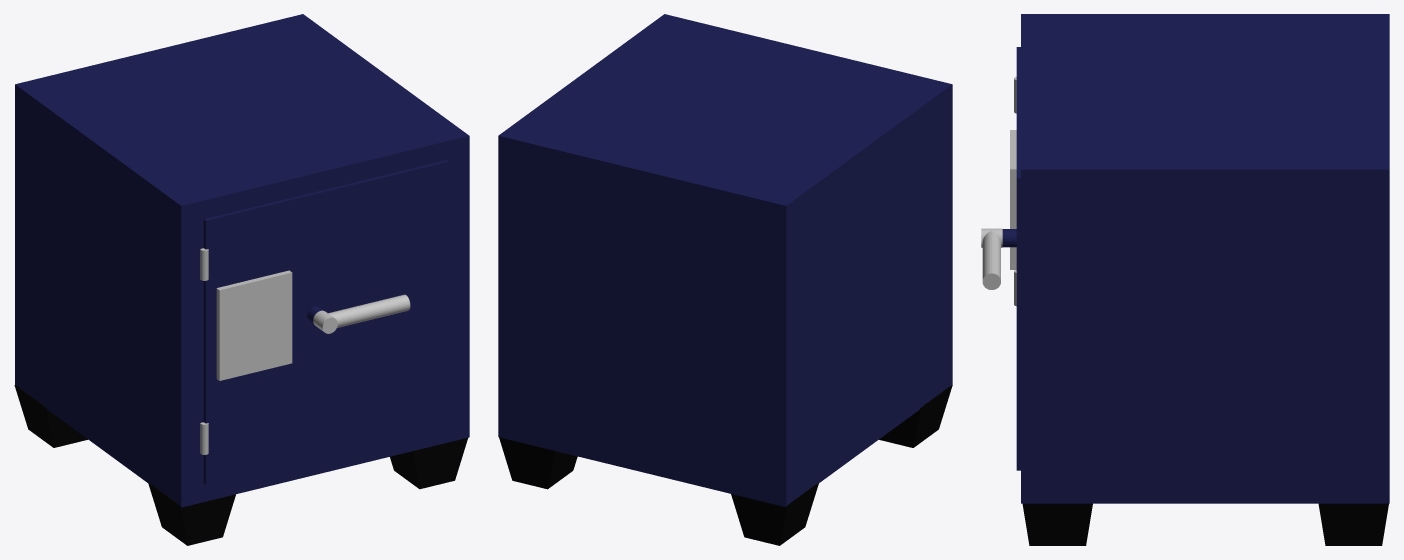
Rendered from safe.fbx.
The picture shows the model from 3 angles, left to right: view 1: azimuth 30°, elevation 25°; view 2: azimuth 150°, elevation 25°; view 3: azimuth 270°, elevation 25°; orthographic projection. The views are drawn at different scales.
Visible parts, largest first — view 1: Cube, Cube.001, Cube.006, Cube.002, Cube.003, Cube.005, Cylinder.004; view 2: Cube, Cube.005, Cube.004, Cube.002; view 3: Cube, Cube.004, Cube.003, Cube.001, Cylinder.004, Cube.006.
Part boxes in pixels (x1=…): Cube: x1=15, y1=14, x2=469, y2=507; Cube.001: x1=203, y1=160, x2=448, y2=484; Cube.006: x1=216, y1=270, x2=292, y2=380; Cube.002: x1=148, y1=483, x2=235, y2=545; Cube.003: x1=390, y1=438, x2=467, y2=489; Cube.005: x1=14, y1=385, x2=87, y2=447; Cylinder.004: x1=327, y1=294, x2=410, y2=327; Cube: x1=498, y1=14, x2=952, y2=507; Cube.005: x1=731, y1=483, x2=818, y2=545; Cube.004: x1=499, y1=437, x2=577, y2=489; Cube.002: x1=879, y1=385, x2=952, y2=447; Cube: x1=1021, y1=14, x2=1389, y2=503; Cube.004: x1=1318, y1=503, x2=1388, y2=545; Cube.003: x1=1022, y1=503, x2=1092, y2=545; Cube.001: x1=1016, y1=47, x2=1020, y2=470; Cylinder.004: x1=982, y1=231, x2=1000, y2=289; Cube.006: x1=1010, y1=130, x2=1016, y2=269.
Bounding box in the file's own units: 200 × 229 × 222.
